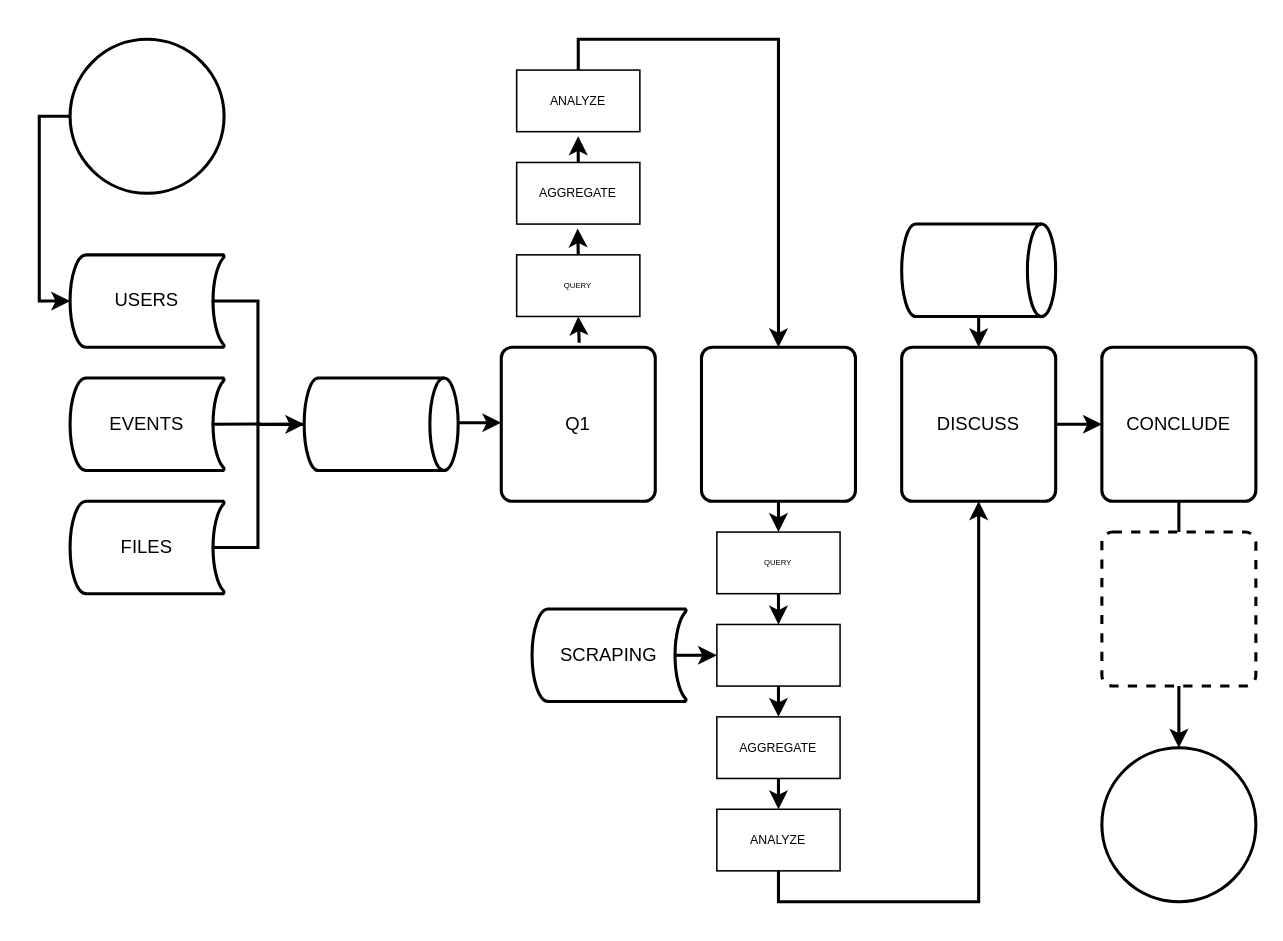
Image size: 1283x941. Some labels were removed from this diagram. Each missing label, with the box of its shape:
END: (1100, 745, 1257, 902)
GET MISSING DATA: (715, 623, 840, 686)
LITERATURE: (899, 222, 1056, 317)
MongoDB: (302, 376, 459, 471)
Q2: (699, 345, 856, 502)
START: (68, 37, 225, 194)
VISUALIZATION: (1100, 530, 1257, 687)
